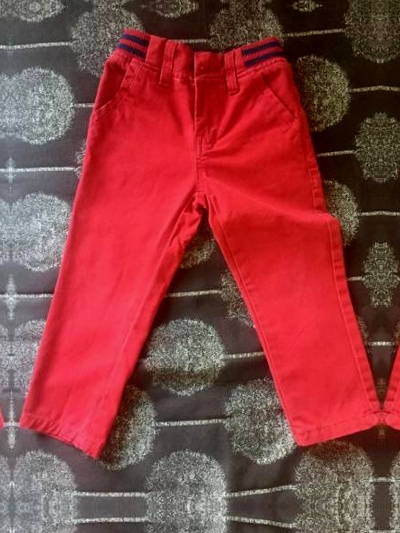Pants: (27, 30, 379, 471), (384, 29, 400, 469)
